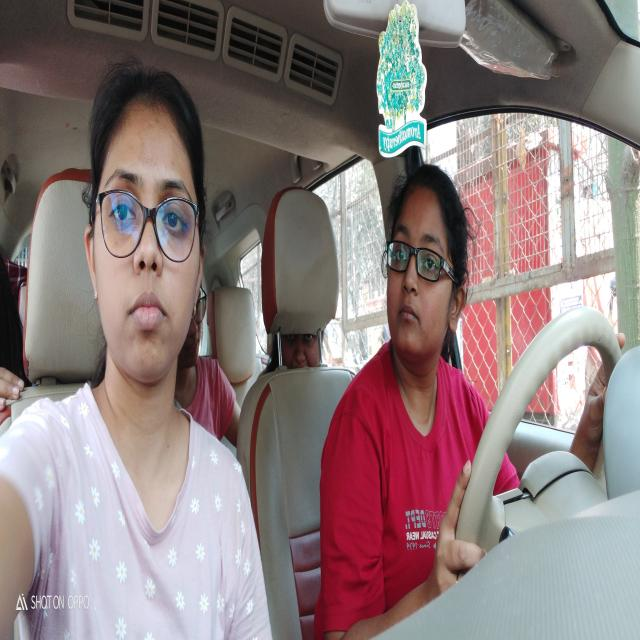person: (97, 107, 199, 380), (382, 190, 462, 348), (286, 337, 322, 371)
